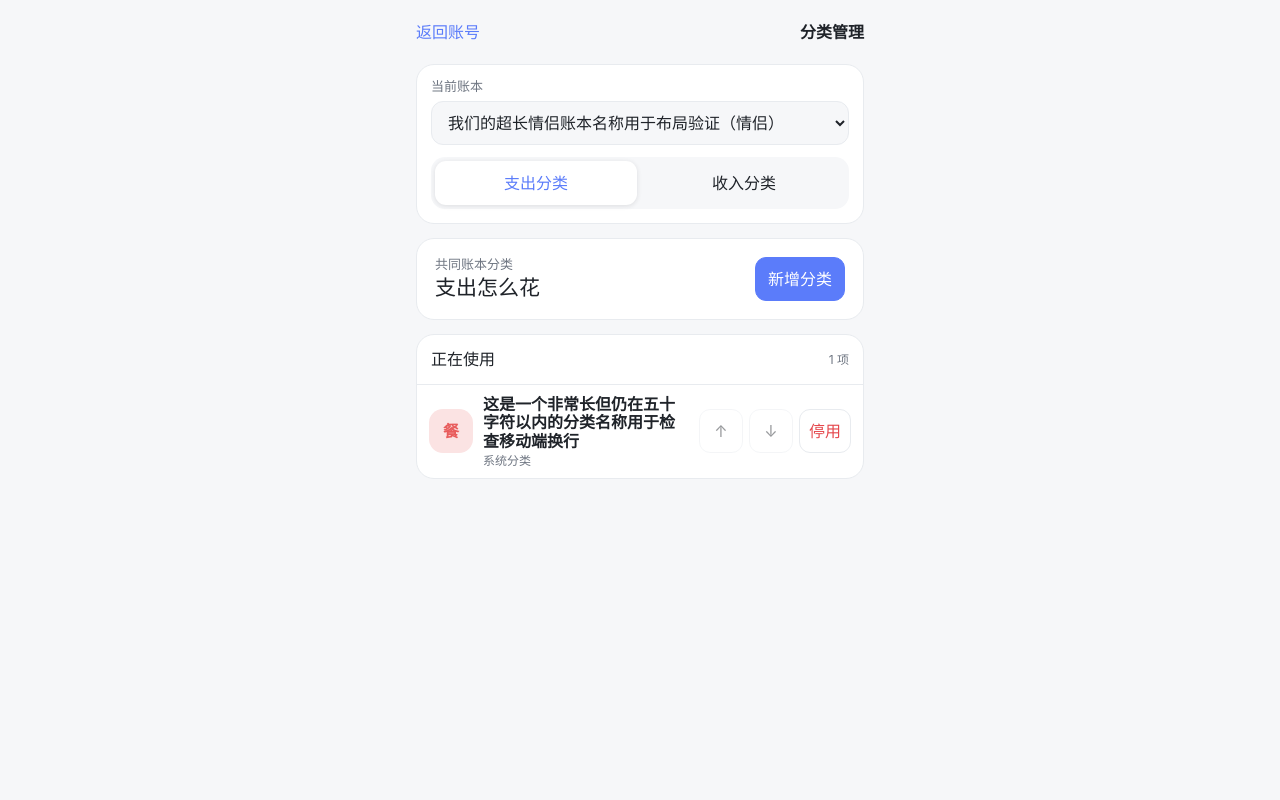
Test: CategoryManagementView › creates a category once while the form is submitting and reloads the list
This screenshot has width=1280, height=800.
Click the button "新增分类" at x=800, y=279, box [755, 257, 845, 301]
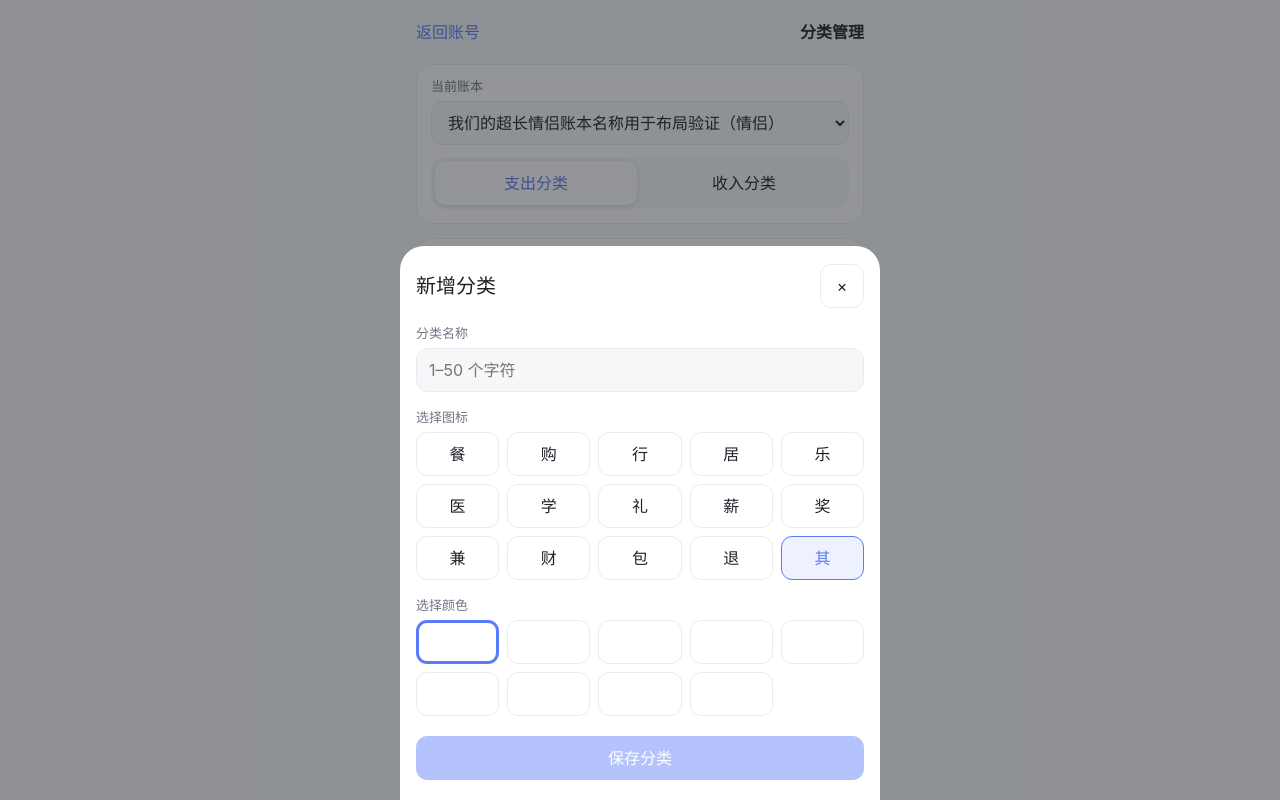
Type "周末出游" into the field labelled "分类名称" at x=640, y=370, box [416, 348, 864, 392]
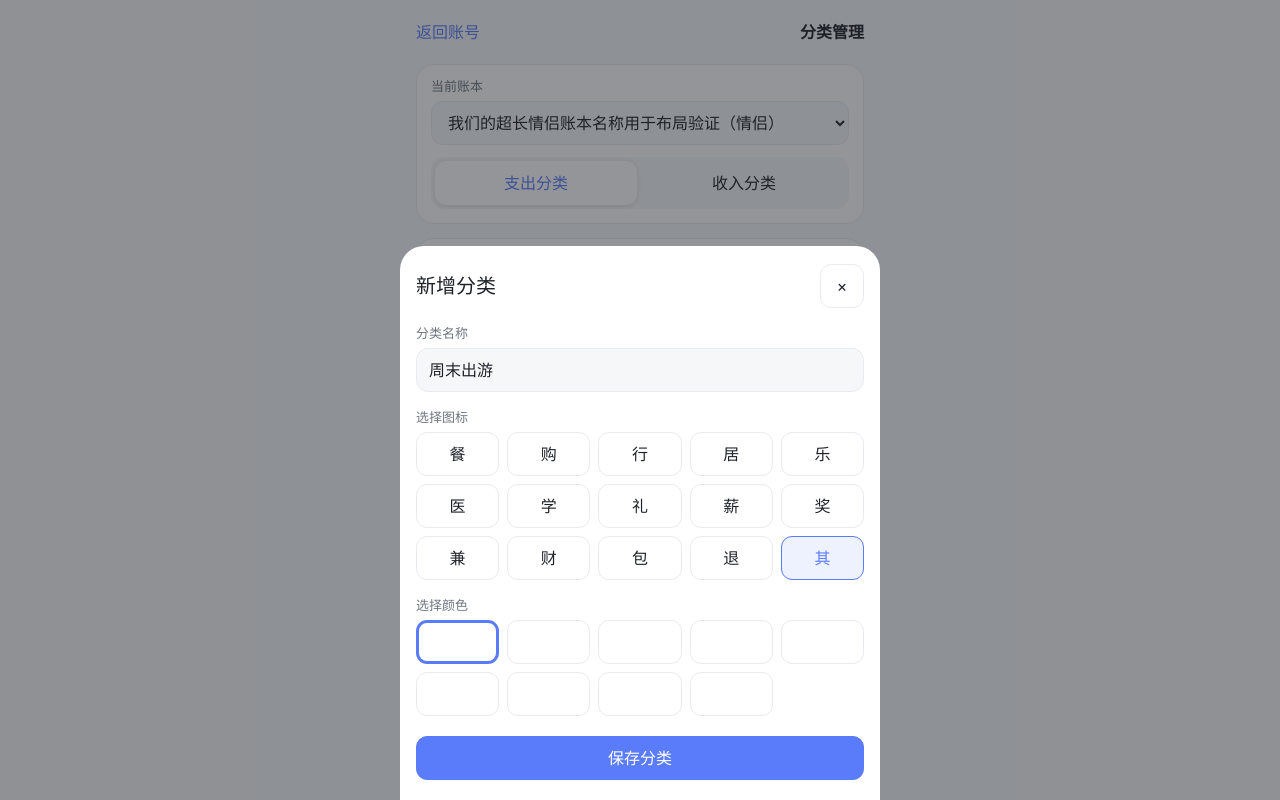
Submit the form, box [416, 326, 864, 780]
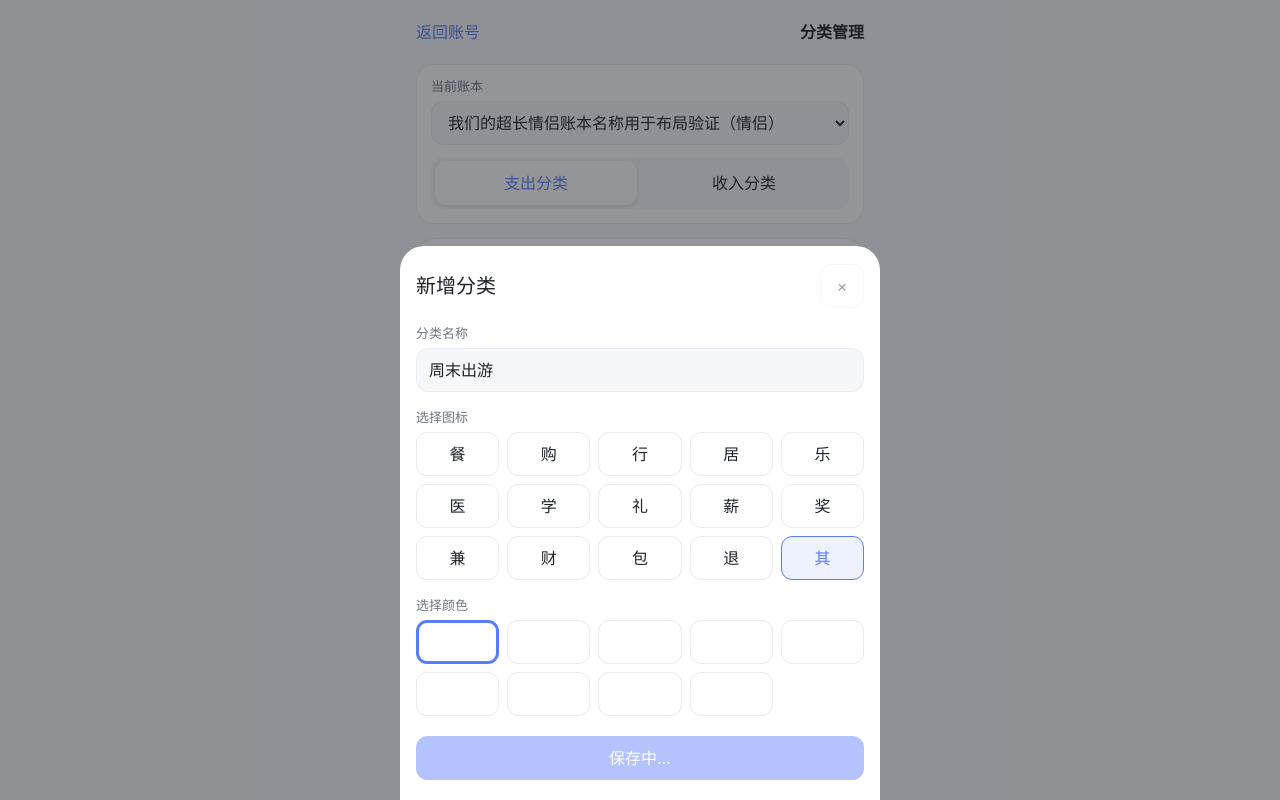
Submit the form, box [416, 326, 864, 780]
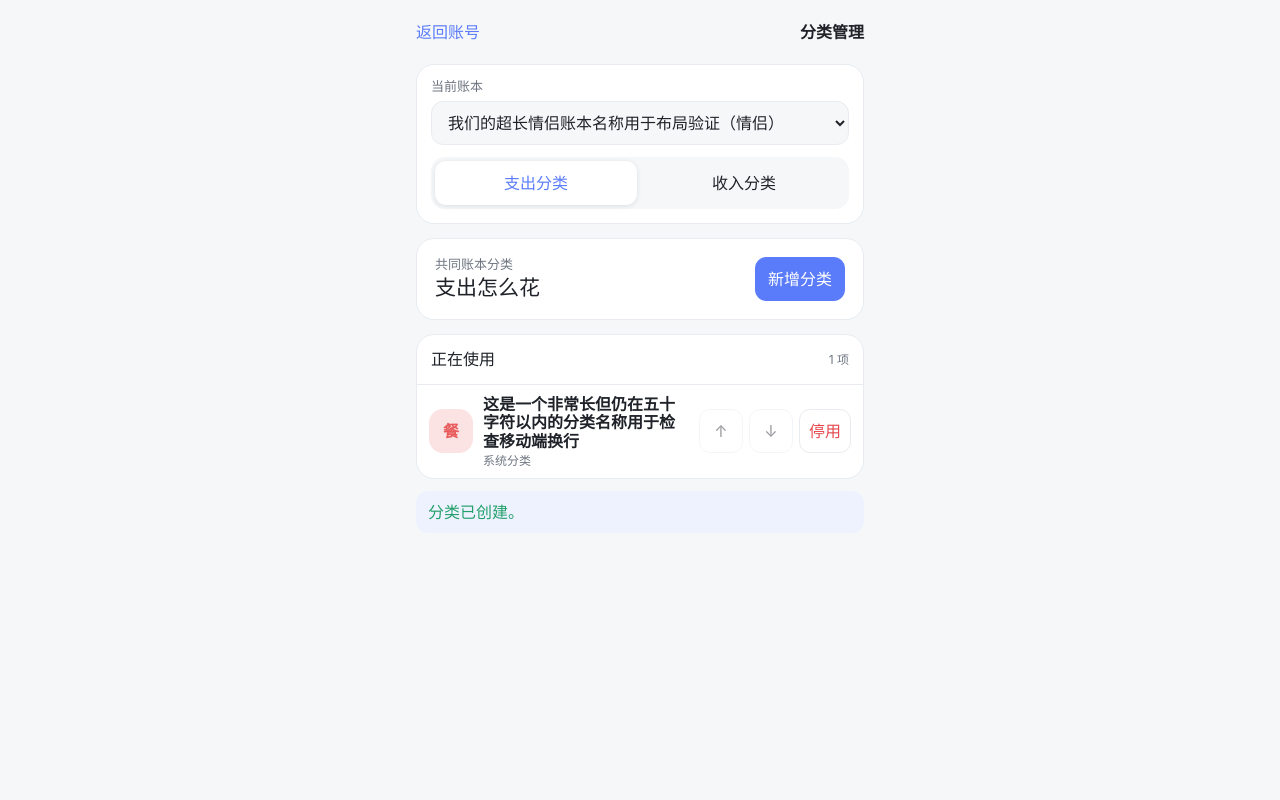
Now the text "分类已创建" is shown, box [428, 502, 524, 522]
